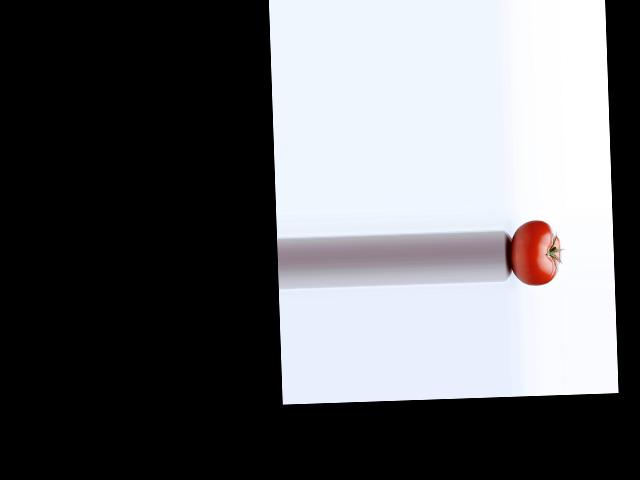tomato: (509, 219, 561, 286)
